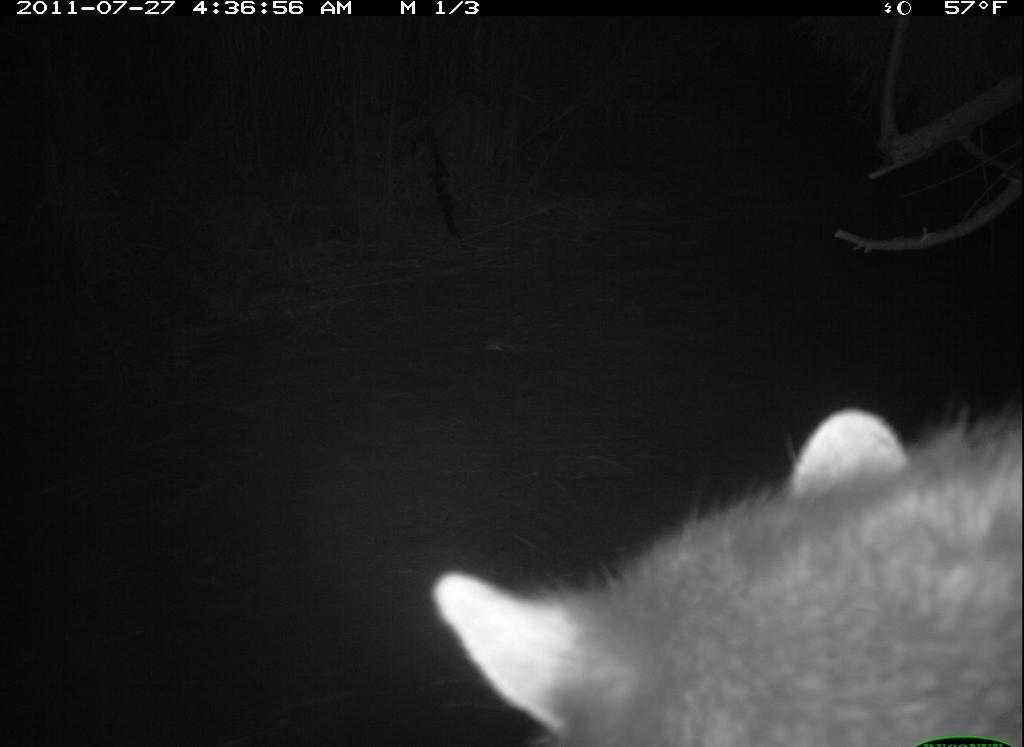raccoon: (432, 391, 1024, 747)
